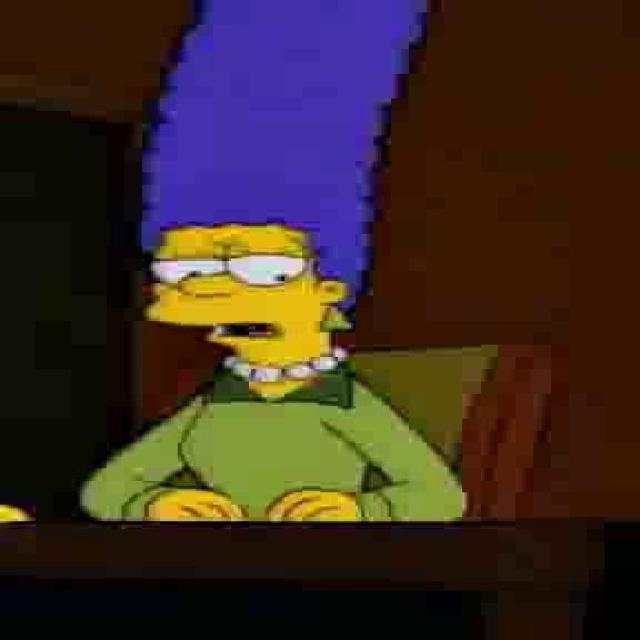Marge Simpson: (140, 0, 433, 385)
